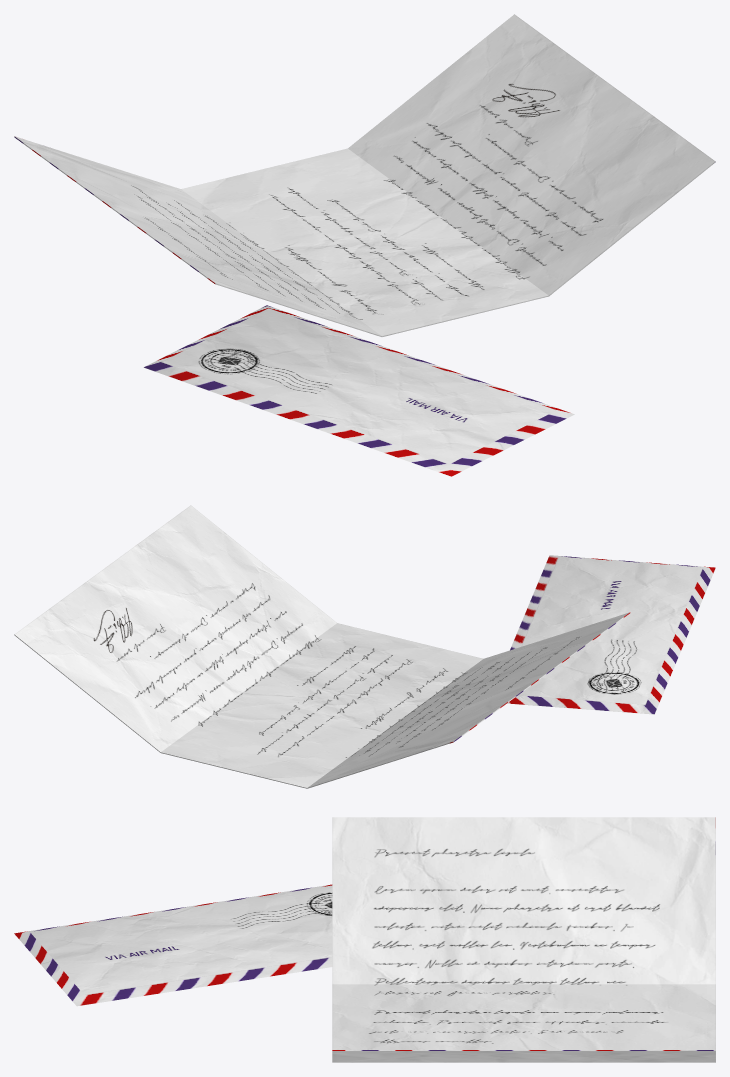
Rendered from letter.glb.
3 renders of one model, top to bottom at view 1: azimuth 30°, elevation 25°; view 2: azimuth 150°, elevation 25°; view 3: azimuth 270°, elevation 25°, orthographic. The views are drawn at different scales.
Parts seen in each view (by area): view 1: Paper, Envelope; view 2: Paper, Envelope; view 3: Paper, Envelope.
Boxes of the visible parts, <box> form: Paper: <box>14,14,715,336</box>; Envelope: <box>143,305,574,476</box>; Paper: <box>14,505,630,788</box>; Envelope: <box>507,555,715,714</box>; Paper: <box>332,817,715,1062</box>; Envelope: <box>14,884,332,1006</box>.
Size of the model in its own units: 0.3322 by 0.0551 by 0.3845.
1 material, 1 textured.
